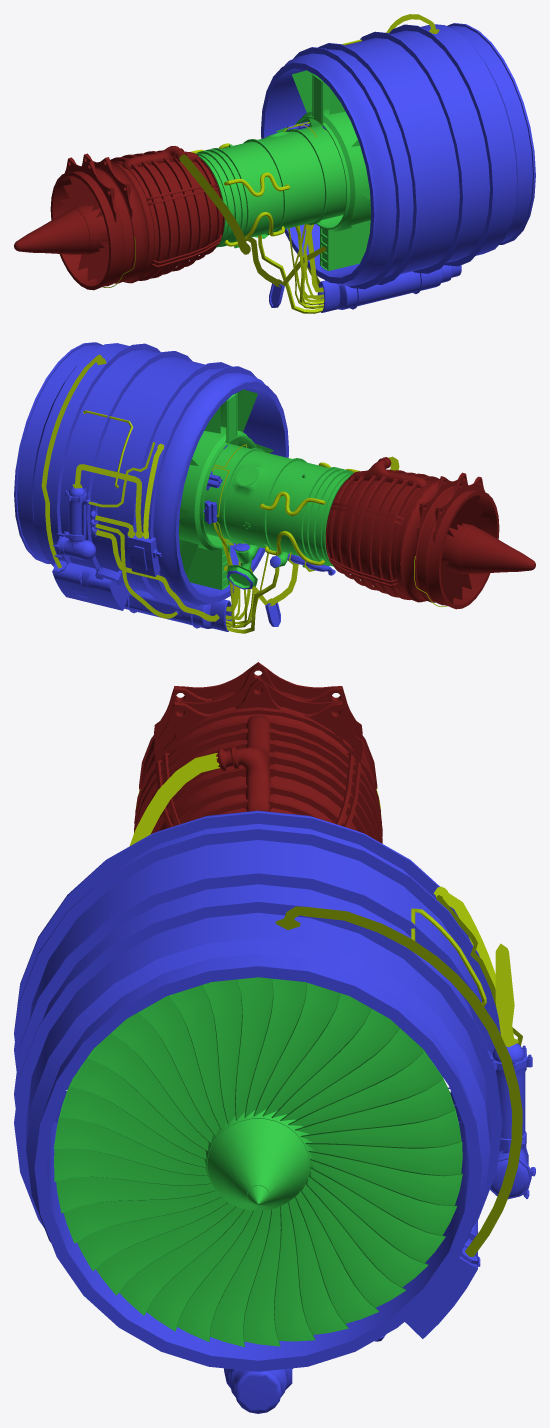
Rendered from AIRCRAFT.FBX.
3 renders of one model, top to bottom at view 1: azimuth 30°, elevation 25°; view 2: azimuth 150°, elevation 25°; view 3: azimuth 270°, elevation 25°, orthographic. The views are drawn at different scales.
Parts seen in each view (by area): view 1: L_020, L_002, L_006, L_013, L_009, L_015, L_012, L_001, L_033, L_011, L_014, L_015_B (+12 smaller); view 2: L_020, L_002, L_013, L_006, L_009, L_012, L_015, L_001, L_032, L_011, L_030, L_033 (+19 smaller); view 3: L_018, L_020, L_009, L_019, L_048, L_006, L_036, L_003, L_030, L_002, L_010, L_032 (+5 smaller).
Boxes of the visible parts, left/top/right/bottom form: L_020: left=261, top=23, right=535, bottom=289; L_002: left=50, top=161, right=149, bottom=290; L_006: left=111, top=159, right=224, bottom=283; L_013: left=253, top=129, right=326, bottom=238; L_009: left=110, top=150, right=221, bottom=280; L_015: left=295, top=107, right=371, bottom=231; L_012: left=216, top=139, right=285, bottom=248; L_001: left=14, top=204, right=108, bottom=254; L_033: left=317, top=265, right=461, bottom=312; L_011: left=196, top=148, right=248, bottom=247; L_014: left=294, top=124, right=346, bottom=223; L_015_B: left=276, top=70, right=370, bottom=255; L_020: left=14, top=342, right=288, bottom=607; L_002: left=400, top=480, right=499, bottom=609; L_013: left=223, top=448, right=297, bottom=587; L_006: left=325, top=478, right=438, bottom=602; L_009: left=328, top=469, right=439, bottom=600; L_012: left=264, top=458, right=333, bottom=568; L_015: left=178, top=426, right=256, bottom=550; L_001: left=441, top=523, right=535, bottom=573; L_032: left=52, top=560, right=129, bottom=610; L_011: left=301, top=467, right=353, bottom=566; L_030: left=53, top=486, right=95, bottom=560; L_033: left=124, top=590, right=231, bottom=631; L_018: left=53, top=977, right=462, bottom=1347; L_020: left=14, top=810, right=502, bottom=1371; L_009: left=134, top=718, right=382, bottom=843; L_019: left=204, top=1109, right=314, bottom=1210; L_048: left=275, top=906, right=522, bottom=1256; L_006: left=135, top=711, right=380, bottom=830; L_036: left=154, top=677, right=362, bottom=760; L_003: left=154, top=662, right=362, bottom=740; L_030: left=487, top=1043, right=535, bottom=1199; L_002: left=134, top=684, right=381, bottom=823; L_010: left=216, top=715, right=270, bottom=811; L_032: left=374, top=1220, right=480, bottom=1341.
Bounding box in the file's own units: 273 × 134 × 125.
